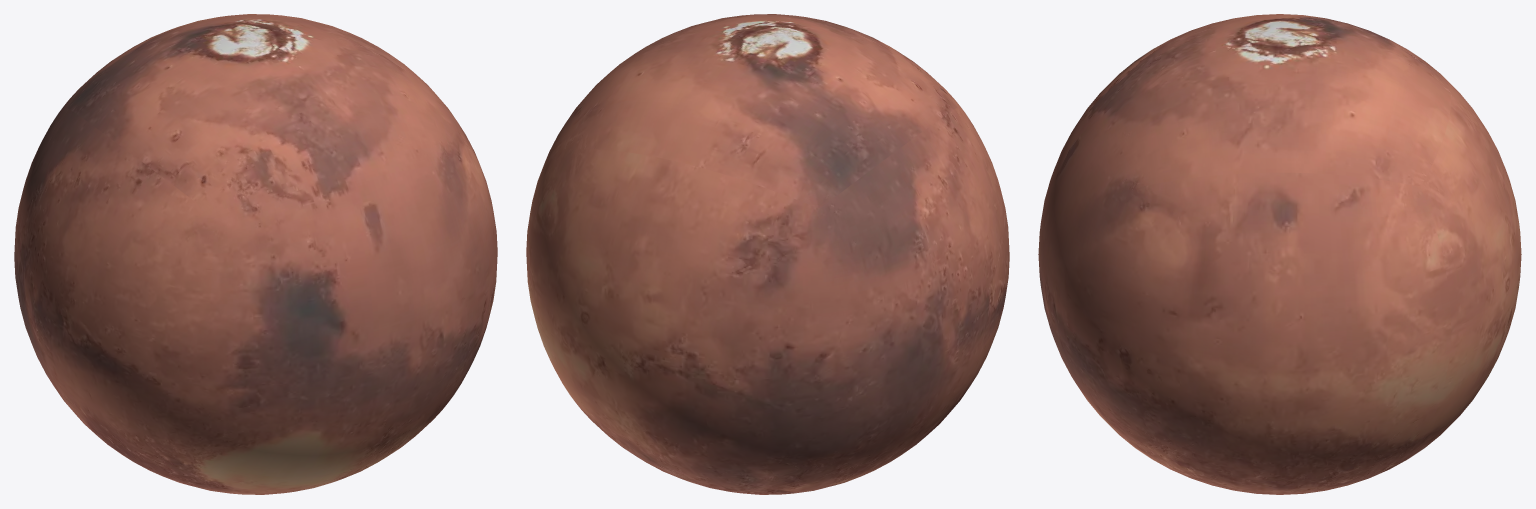
The model's file is mars-transformed.glb.
3 renders of one model, left to right at view 1: azimuth 30°, elevation 25°; view 2: azimuth 150°, elevation 25°; view 3: azimuth 270°, elevation 25°, orthographic.
Visible parts, largest first — view 1: Cube.008; view 2: Cube.008; view 3: Cube.008.
Part boxes in pixels (x1,y1,x2,y2): Cube.008: (14,14,497,494); Cube.008: (526,14,1009,494); Cube.008: (1038,14,1521,494).
Bounding box in the file's own units: 1000 × 994 × 1000.
Materials: 1 (1 with a texture image).
